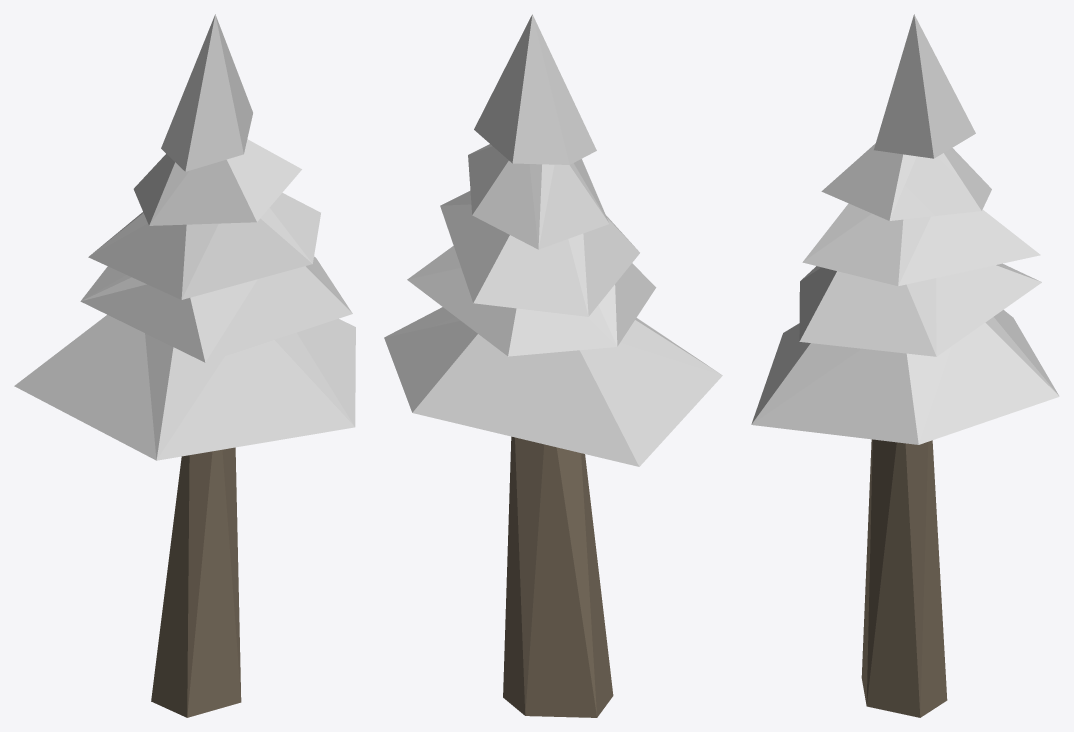
File: Vegetation_Tree_Alpine_Snow_01.fbx
3 renders of one model, left to right at view 1: azimuth 30°, elevation 25°; view 2: azimuth 150°, elevation 25°; view 3: azimuth 270°, elevation 25°, orthographic. The views are drawn at different scales.
Visible parts, largest first — view 1: Vegetation_Tree_Alpine_Snow_01; view 2: Vegetation_Tree_Alpine_Snow_01; view 3: Vegetation_Tree_Alpine_Snow_01.
Part boxes in pixels (x1,y1,x2,y2): Vegetation_Tree_Alpine_Snow_01: [14, 14, 355, 717]; Vegetation_Tree_Alpine_Snow_01: [384, 14, 722, 717]; Vegetation_Tree_Alpine_Snow_01: [751, 14, 1059, 717].
Size of the model in its own units: 1953 by 4241 by 1716.
